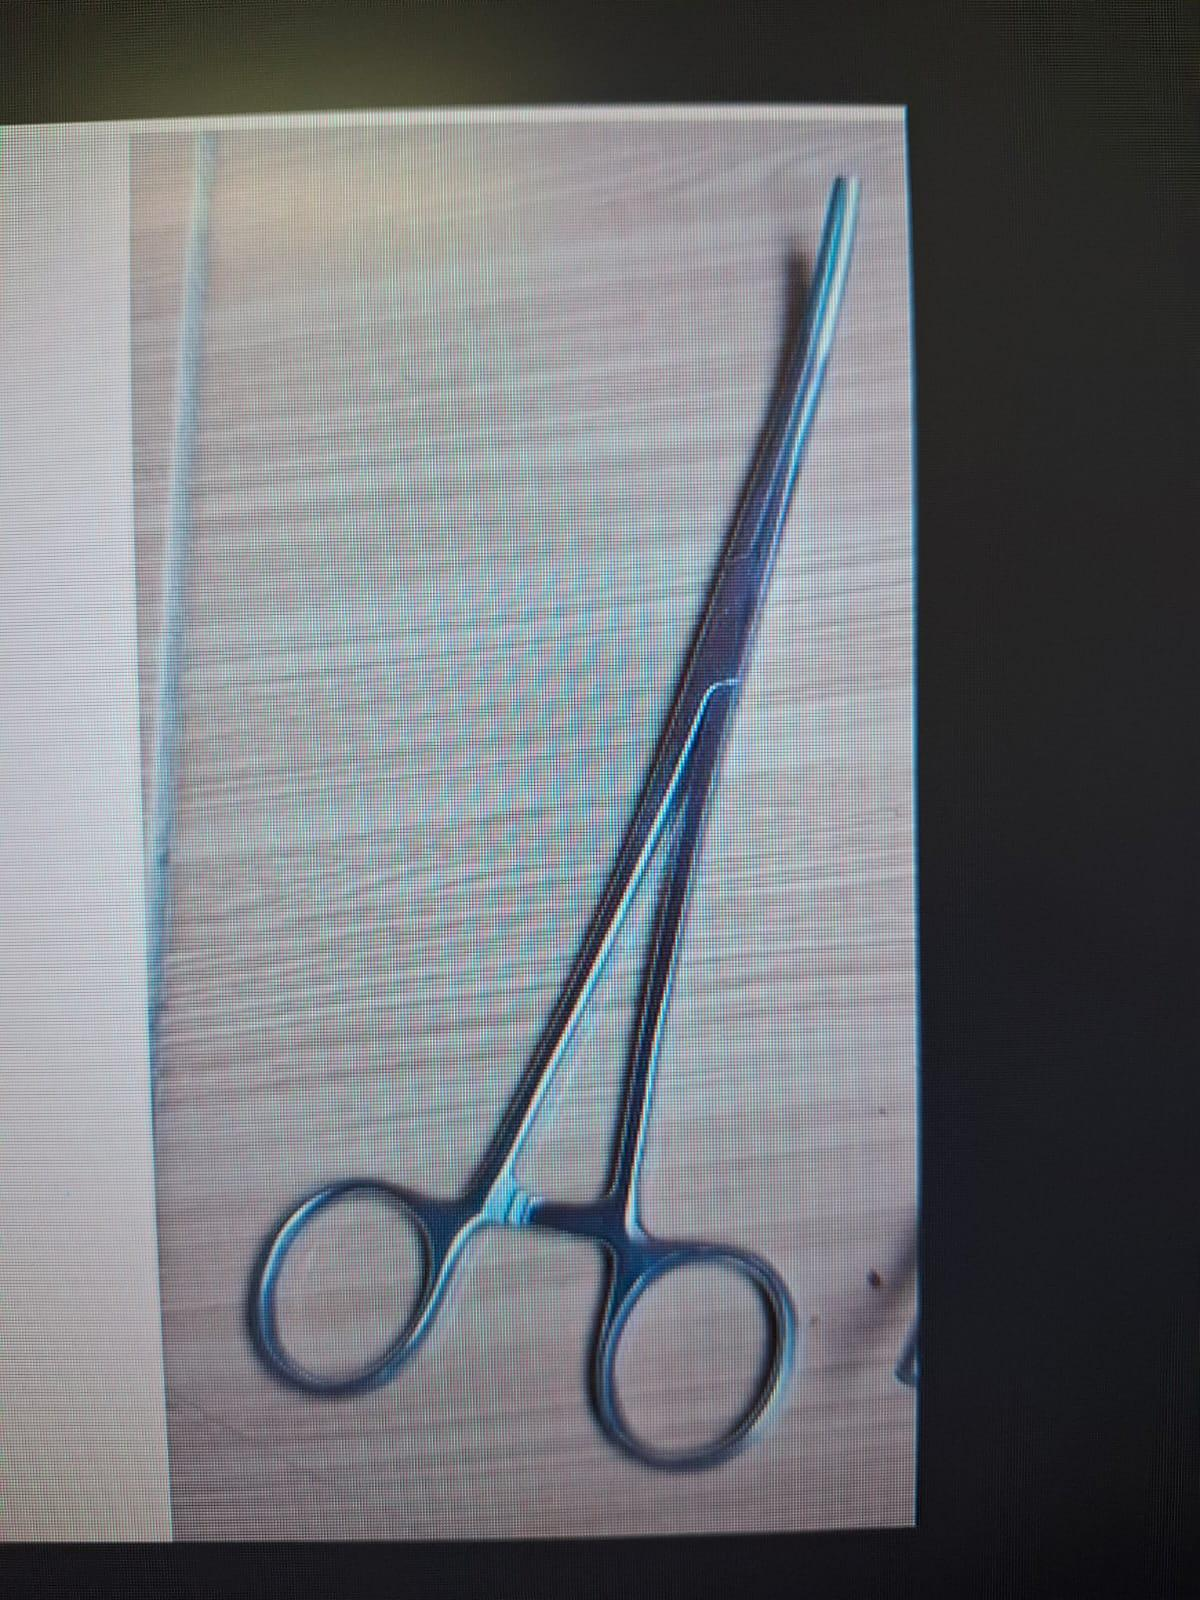Doyel Instestinal Forceps: (222, 158, 848, 1478)
